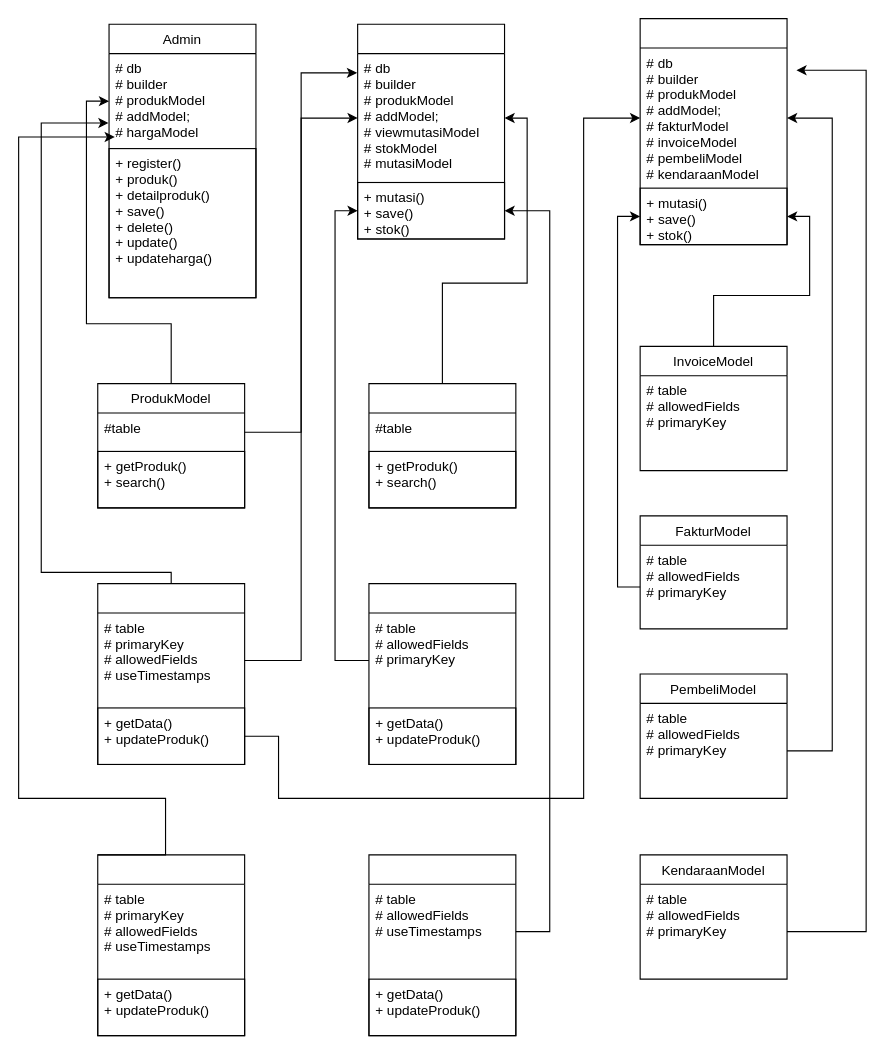
The diagram is 885 pixels wide and 1054 high, and some of its shapes have lost their labels. The shapes that lost their labels are listed below. From the top down, each one's box as (x1, y1, x2, y2) in pixels, then its label:
(357, 23, 505, 239): Gudang
(639, 18, 787, 245): Penjualan
(368, 383, 516, 508): ViewmutasiModel
(97, 583, 245, 764): AddModel
(368, 583, 516, 764): MutasiModel
(97, 854, 245, 1036): HargaModel
(368, 854, 516, 1036): StokModel
